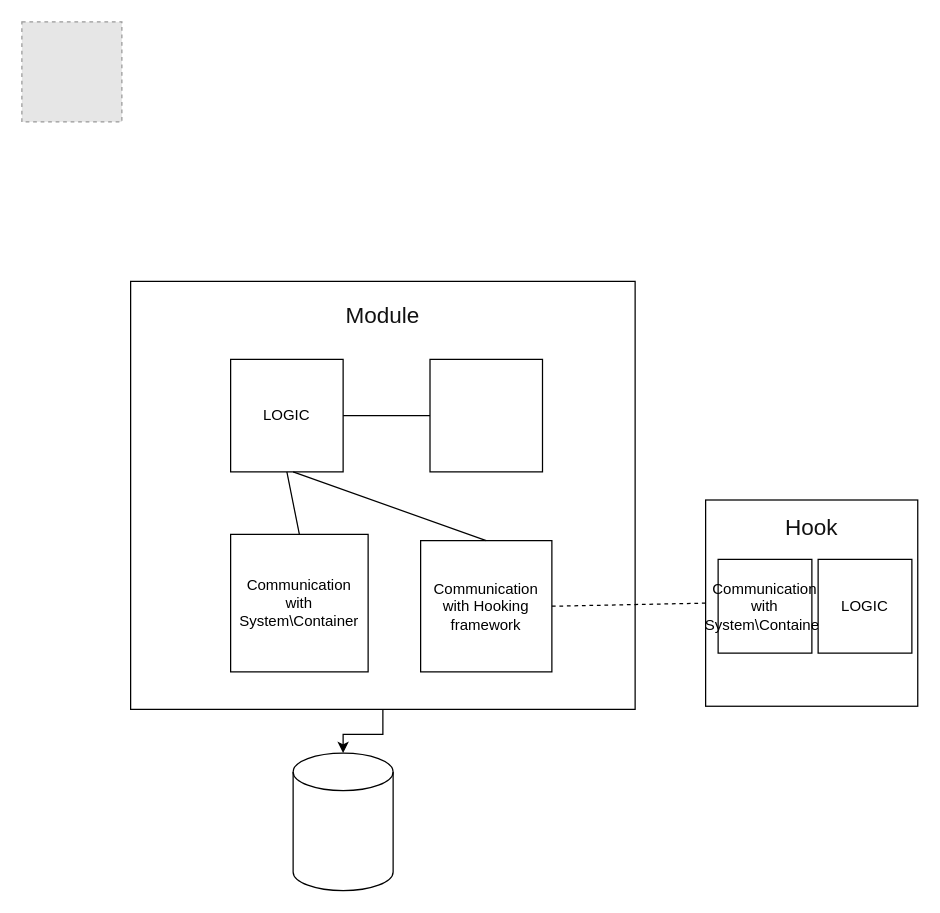
Image size: 940x913. Some labels were removed from this diagram. Grey dashed boxes stand in for pictures. The shapes that lost their labels are listed below. From the top down, each one's box as (x1, y1, x2, y2) in pixels, then its label:
(429, 358, 542, 472): UI
(292, 752, 393, 891): DB
